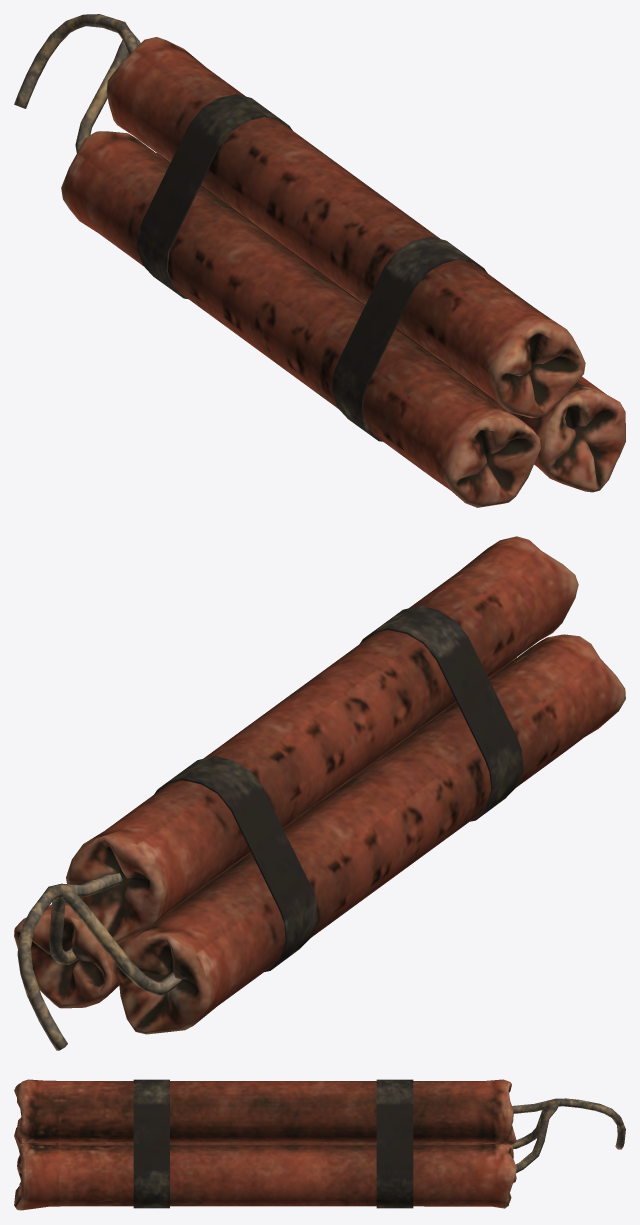
The model's file is Dynamite.fbx.
The picture shows the model from 3 angles, top to bottom: view 1: azimuth 30°, elevation 25°; view 2: azimuth 150°, elevation 25°; view 3: azimuth 270°, elevation 25°; orthographic projection. The views are drawn at different scales.
Parts seen in each view (by area): view 1: Dynamite; view 2: Dynamite; view 3: Dynamite.
Boxes of the visible parts, box(x1,y1,x2,y2) form: Dynamite: box(14, 14, 625, 507); Dynamite: box(14, 536, 625, 1050); Dynamite: box(14, 1079, 625, 1210).
Bounding box in the file's own units: 8.49 × 7.86 × 39.
